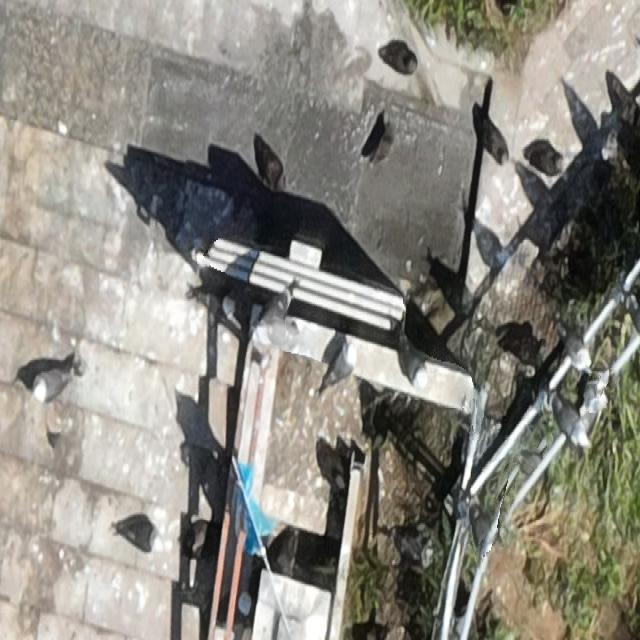umineko: (118, 512, 162, 553), (319, 342, 359, 385), (214, 591, 253, 627), (561, 322, 590, 369), (557, 405, 584, 443), (34, 369, 69, 398)
